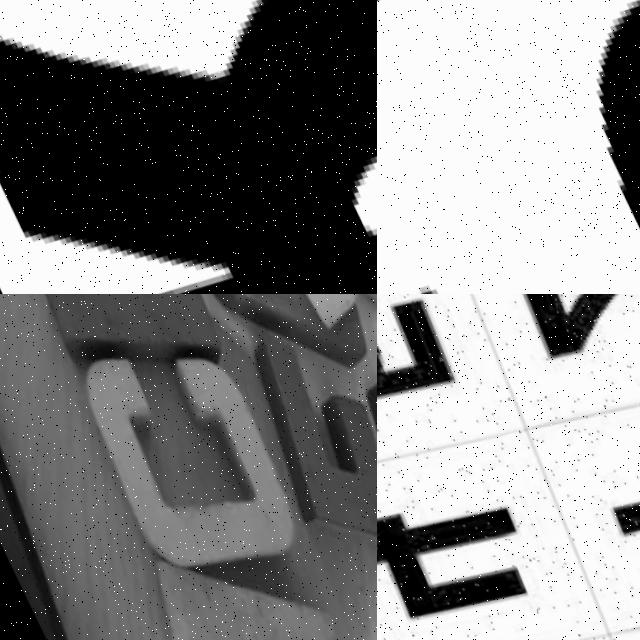1: (593, 427, 640, 554)
2: (494, 294, 640, 384)
4: (377, 453, 557, 640)
5: (377, 294, 472, 451)
C: (33, 294, 312, 613)
E: (235, 328, 377, 613)
K: (0, 0, 377, 294), (3, 294, 247, 408)
